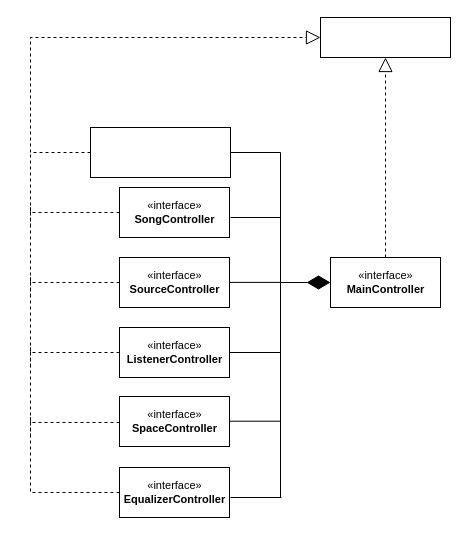
Some shapes in this 468 by 535 pixel diagram are drawn without their labels. Each missing label, with the centre of its shape:
«interface» ControllerApplication: point (385, 37)
«interface» EnvironmentController: point (160, 152)
